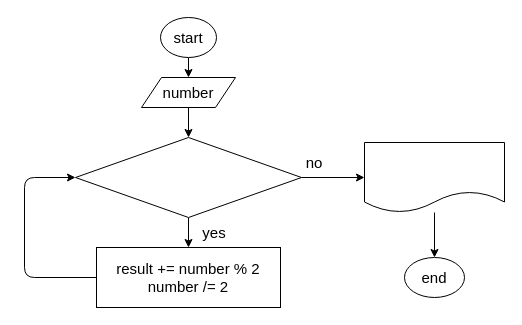
The diagram is 522 pixels wide and 325 high, and some of its shapes have lost their labels. The shapes that lost their labels are listed below. From the top down, each one's centre as x and y in pixels, then its label:
At point 188,177: "number >= 1".
At point 434,177: "result в обратном порядке".
